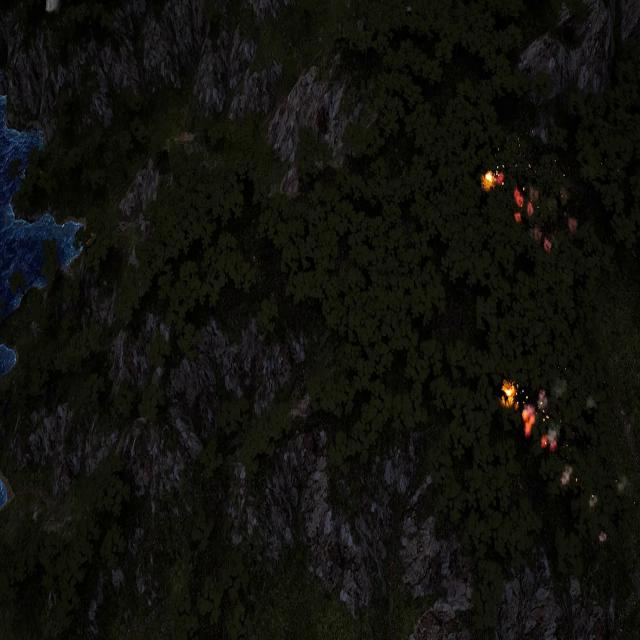fire: (522, 404, 536, 437), (501, 382, 516, 407), (484, 172, 499, 191)
smoke: (524, 377, 568, 478), (516, 186, 580, 255), (513, 185, 537, 222), (561, 465, 573, 489), (618, 475, 628, 495), (589, 494, 597, 509), (599, 529, 607, 543)
